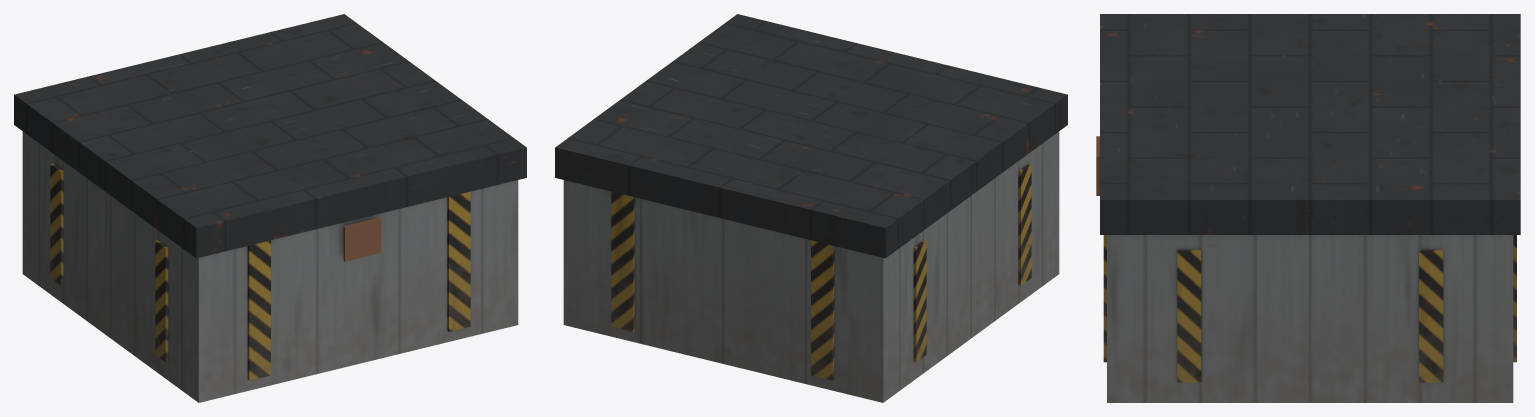
File: bau_grande.glb
The picture shows the model from 3 angles, left to right: view 1: azimuth 30°, elevation 25°; view 2: azimuth 150°, elevation 25°; view 3: azimuth 270°, elevation 25°; orthographic projection. The views are drawn at different scales.
Visible parts, largest first — view 1: bau_grande; view 2: bau_grande; view 3: bau_grande.
Part boxes in pixels (bbox=[...]): bau_grande: bbox=[14, 14, 526, 402]; bau_grande: bbox=[555, 14, 1067, 402]; bau_grande: bbox=[1096, 14, 1520, 402].
Bounding box in the file's own units: 1.82 × 0.94 × 1.75.
Materials: 1 (1 with a texture image).
